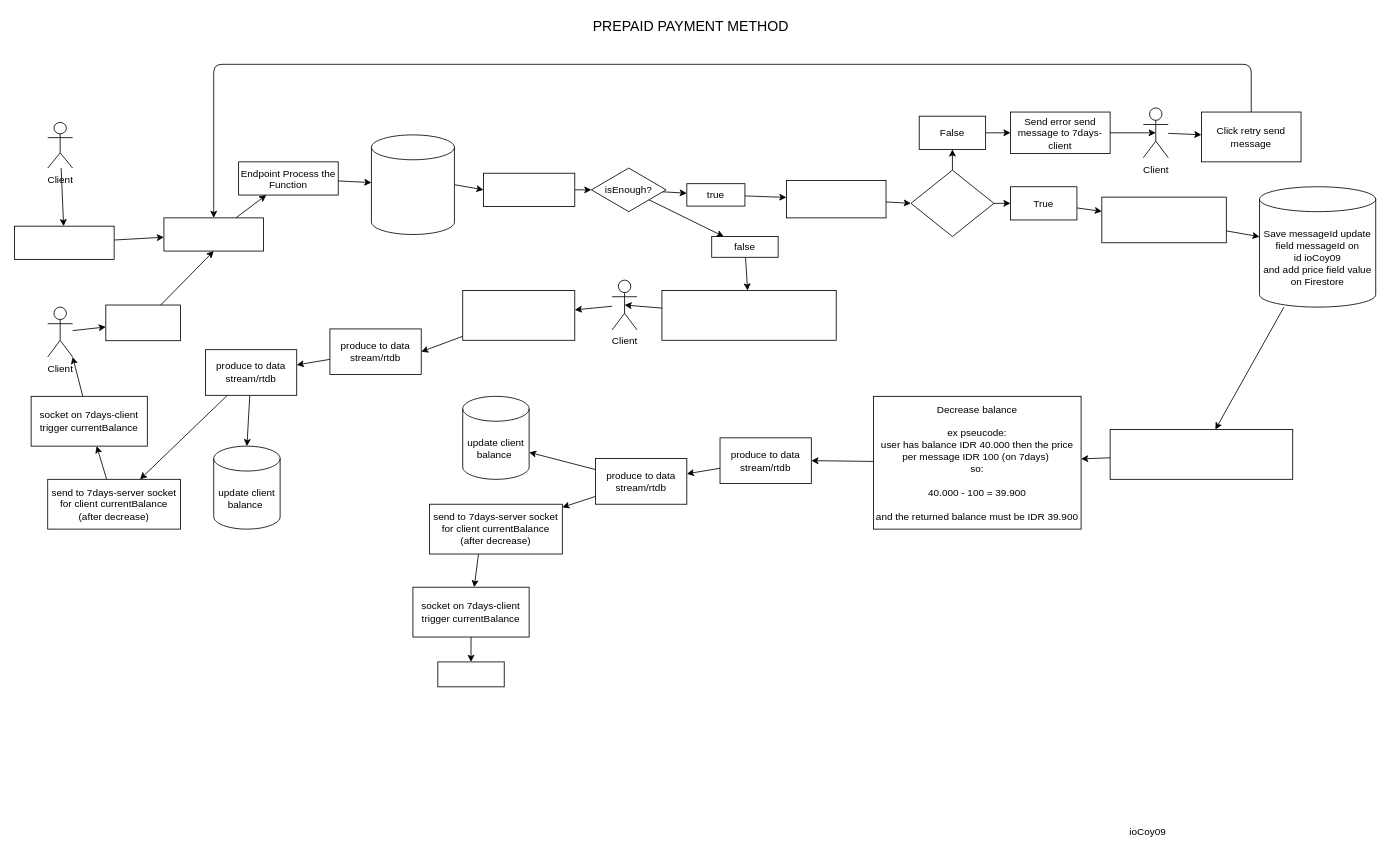
The diagram is 1390 pixels wide and 858 high, and some of its shapes have lost their labels. The shapes that lost their labels are listed below. From the top down, each one's centre as x and y in pixels, then its label:
(x=412, y=184): Save message data on Firebase Firestore ex saved with doc ID: ioCoy09
(x=529, y=189): Get Client Balance
(x=836, y=199): Request send message to Whatsapp
(x=952, y=203): isSuccess ?
(x=213, y=234): Call 7days-server Endpoint
(x=1163, y=219): whatsapp give a response include the messageId ex: wamid.xxxxxxxxxx
(x=64, y=242): User Send Message using 7days-client
(x=143, y=322): Click Retry
(x=518, y=315): process top up balance
(x=748, y=315): send response error to 7days-client error message: 'balance is not enough'
(x=1201, y=454): Request descrease balance by fixed price on 7days
(x=470, y=674): Finish
